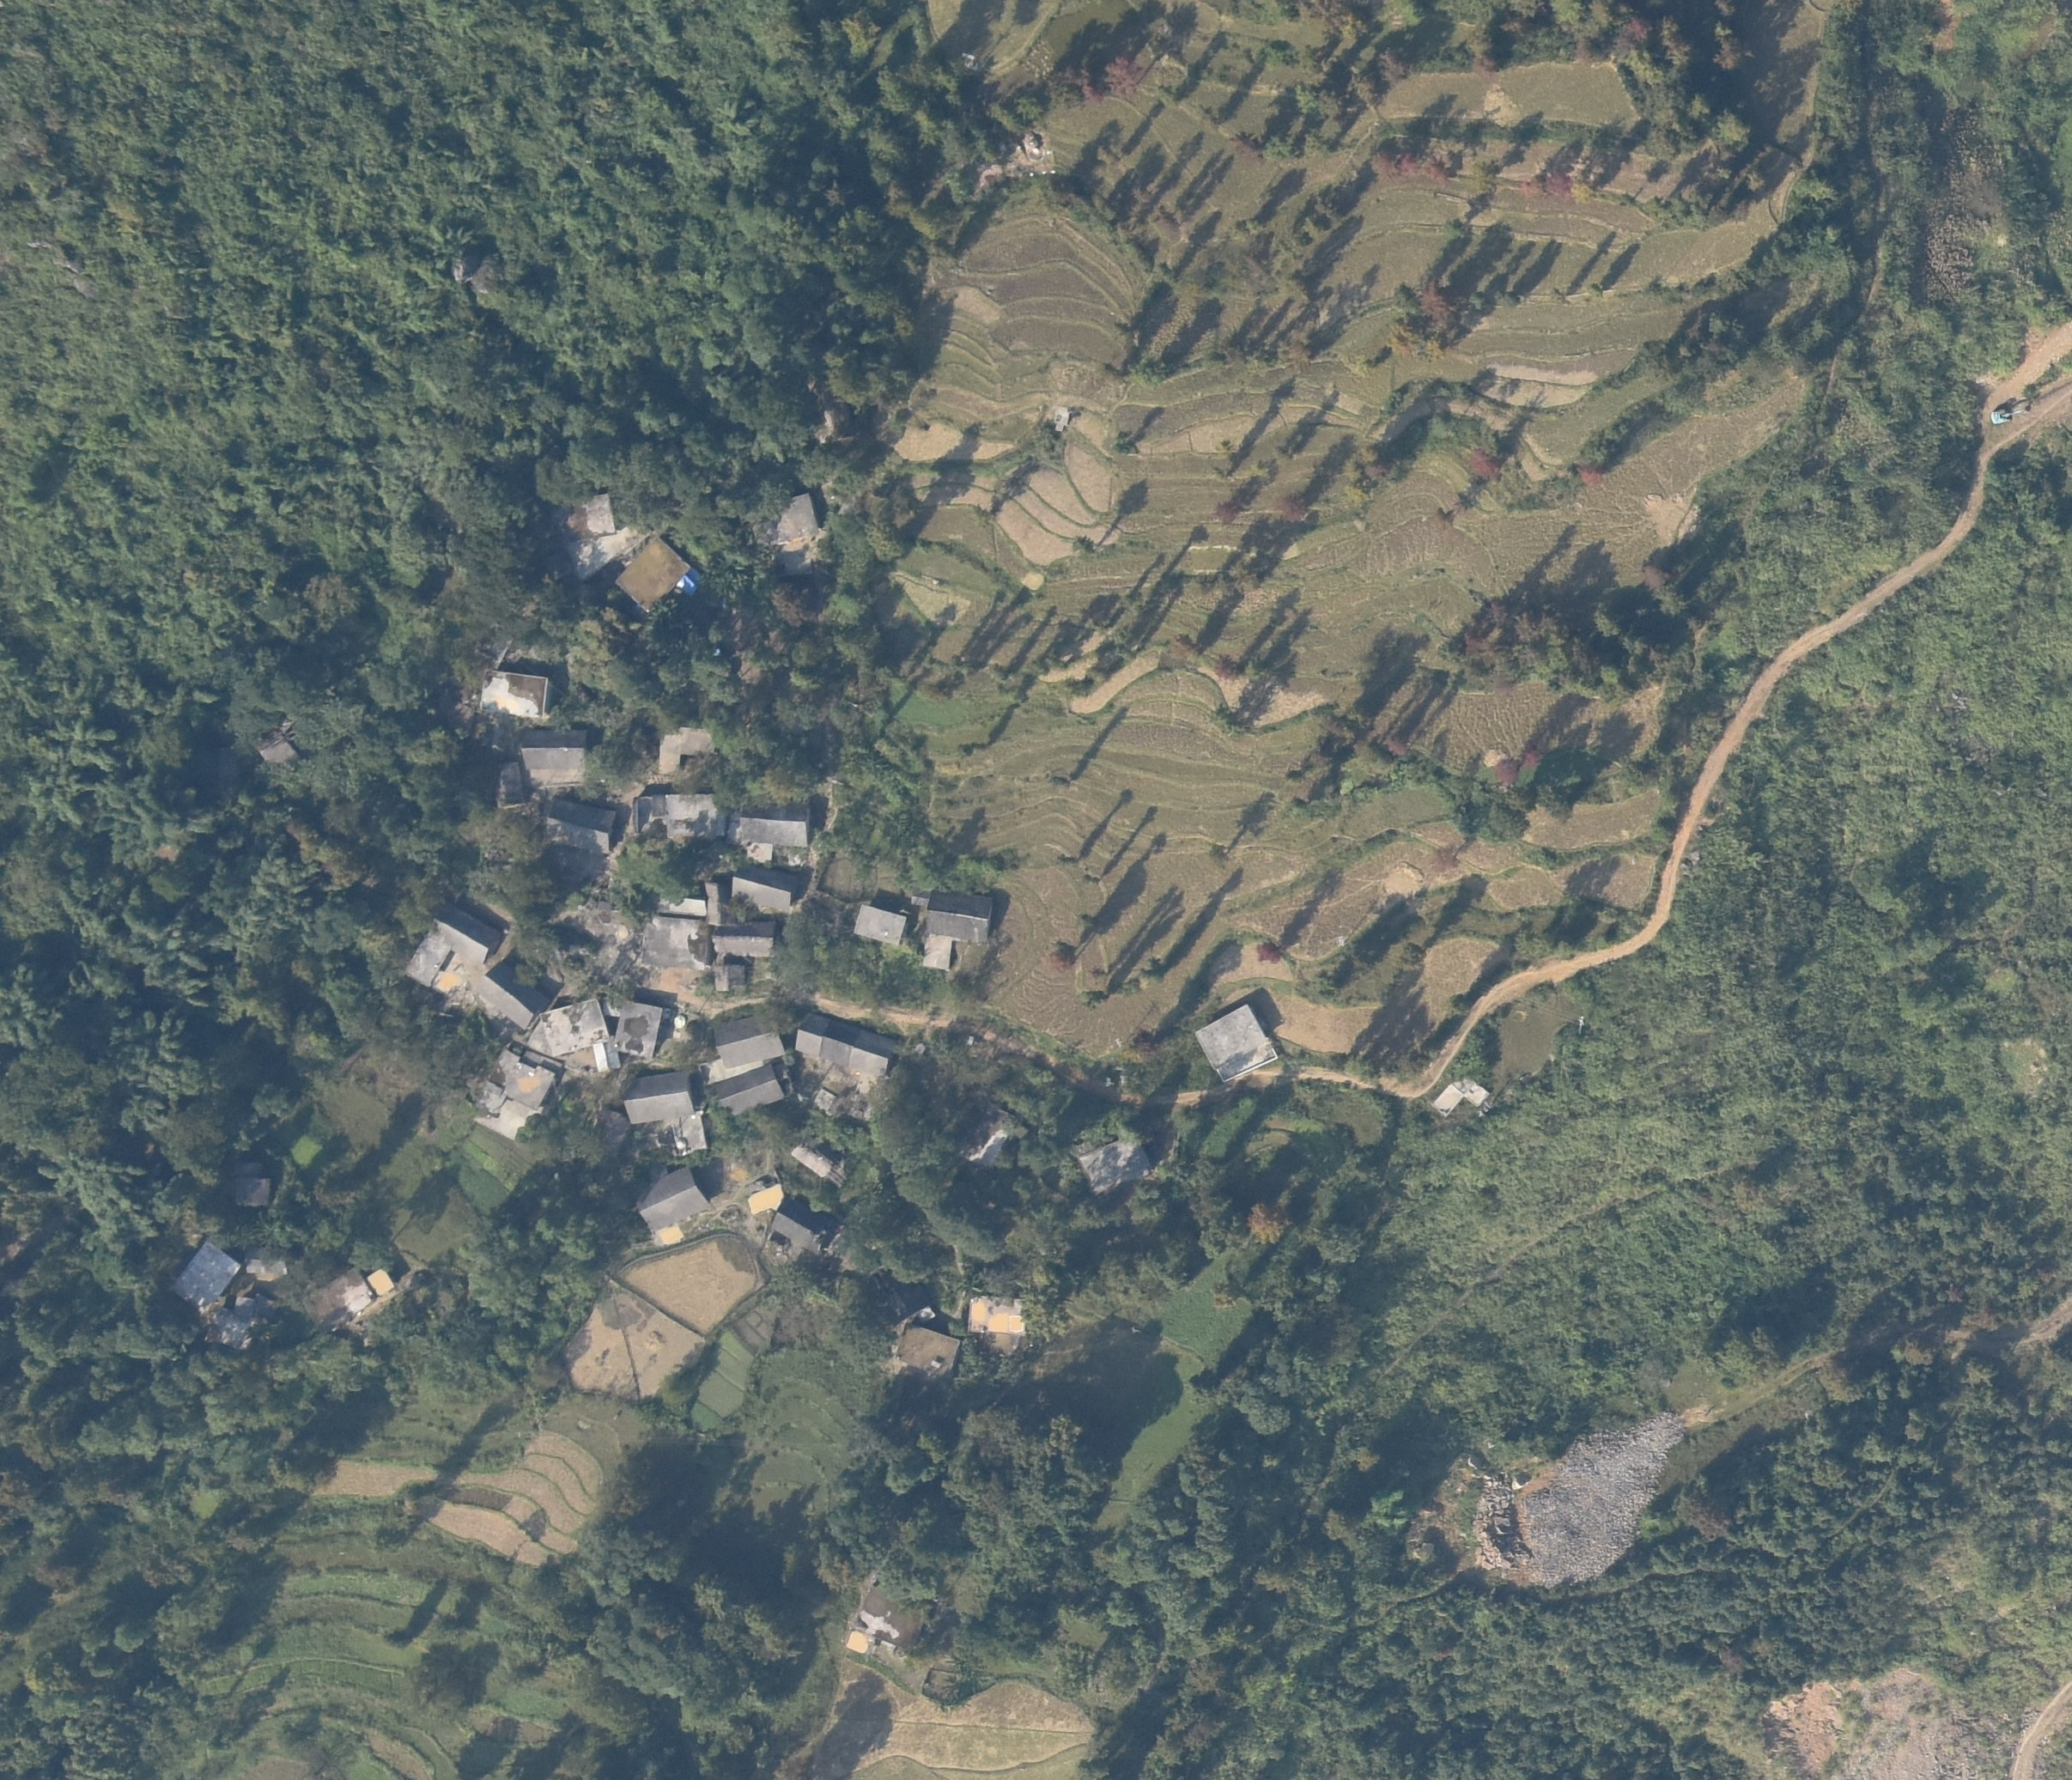building: (407, 909, 534, 1027), (714, 871, 791, 985), (470, 1052, 550, 1142), (795, 1008, 897, 1077), (849, 1579, 936, 1660), (560, 493, 640, 578), (1195, 1005, 1281, 1079), (618, 536, 691, 617), (925, 890, 995, 973), (307, 1269, 393, 1331), (596, 994, 661, 1075), (641, 886, 708, 964), (631, 1168, 714, 1228), (171, 1241, 238, 1313), (633, 793, 728, 839), (543, 798, 618, 855), (714, 1012, 786, 1068), (536, 994, 604, 1052), (479, 668, 550, 724), (514, 728, 585, 782), (1073, 1142, 1152, 1190), (766, 1195, 830, 1251), (624, 1073, 691, 1123), (659, 719, 717, 775), (707, 1068, 781, 1112), (899, 1324, 957, 1376), (742, 804, 818, 842), (964, 1292, 1027, 1332), (763, 493, 816, 541), (213, 1301, 263, 1350), (851, 901, 906, 941), (233, 1158, 273, 1205), (1431, 1079, 1487, 1112), (254, 731, 300, 763), (675, 1112, 708, 1154), (245, 1248, 287, 1278)
quarry: (1471, 1412, 1684, 1584)
